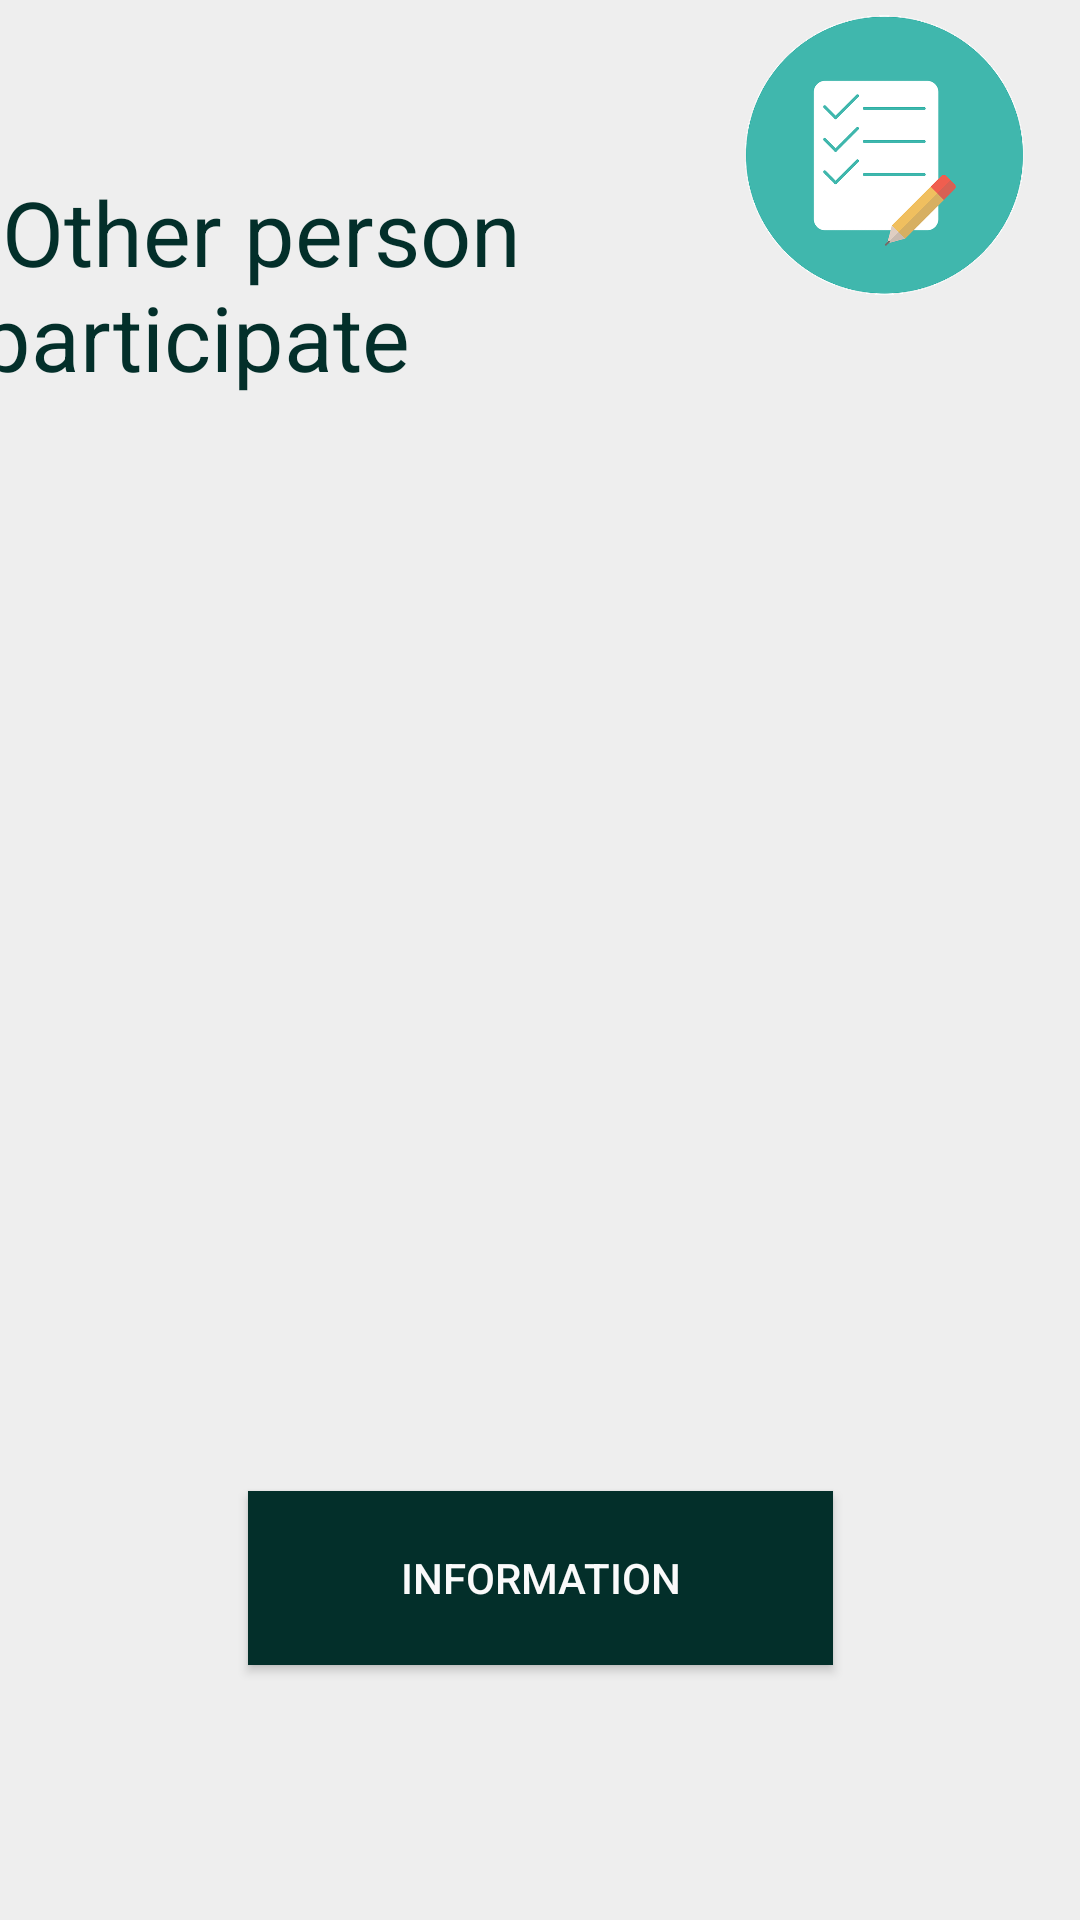

Named icons in this screenshot (1080px x 1920px) and their bounding boxes, {"x1": x1, "y1": y1, "x2": x2, "y2": y2}:
list: {"x1": 746, "y1": 17, "x2": 1023, "y2": 294}
